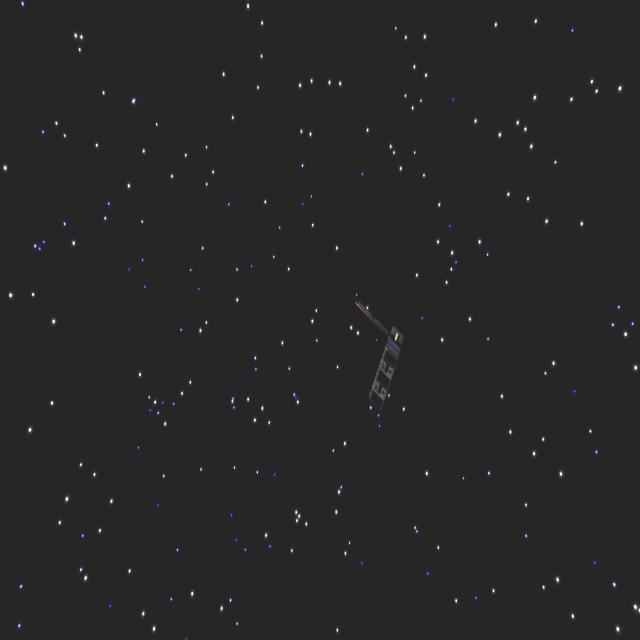medium_debris: (351, 278, 415, 426)
